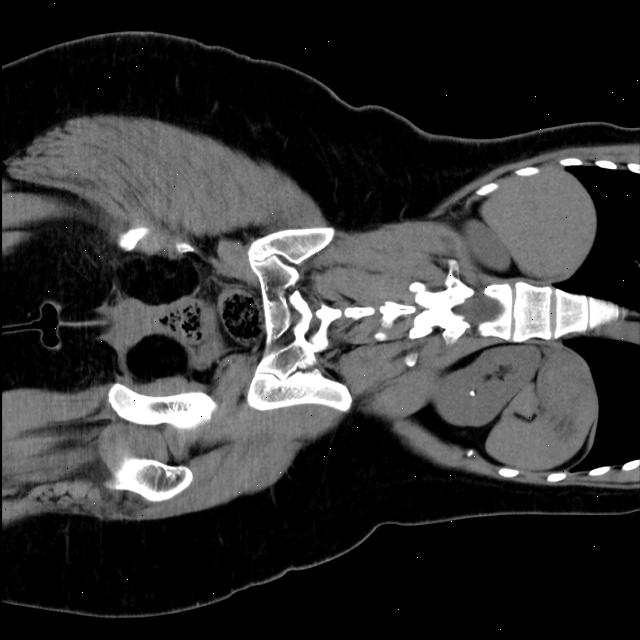kidneystone: (469, 389, 475, 397)
